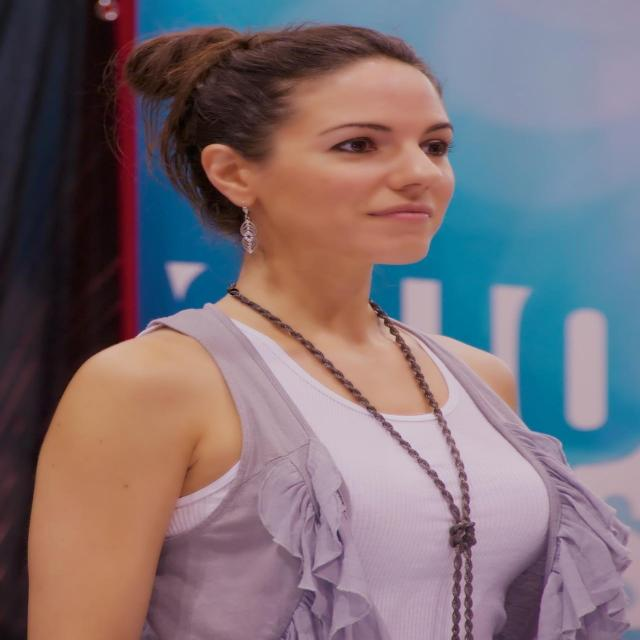no-earmuff: (182, 132, 280, 218)
